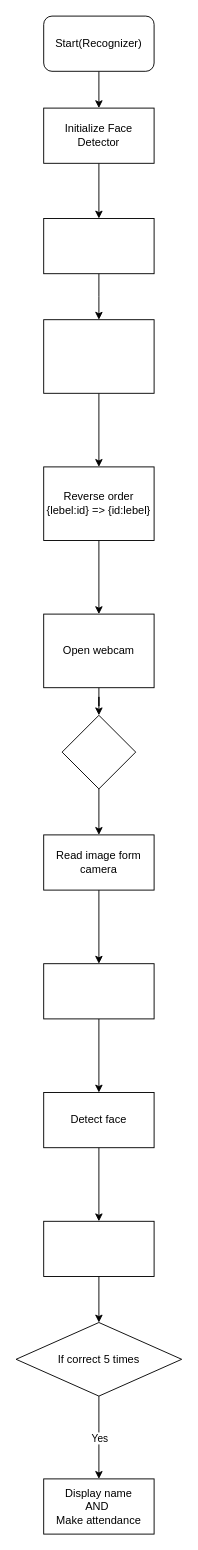
Image size: 198x1550. Some labels were removed from this diagram. The shapes that lost their labels are listed below. From the top down, each one's box as (x1, y1, x2, y2) in pixels, then its label:
(43, 218, 154, 274): Create recognizer AND read trained data
(43, 319, 154, 393): Open/Load label_ids dictionary form disk
(43, 963, 154, 1019): Convert to gray
(43, 1220, 154, 1276): Recognize face
